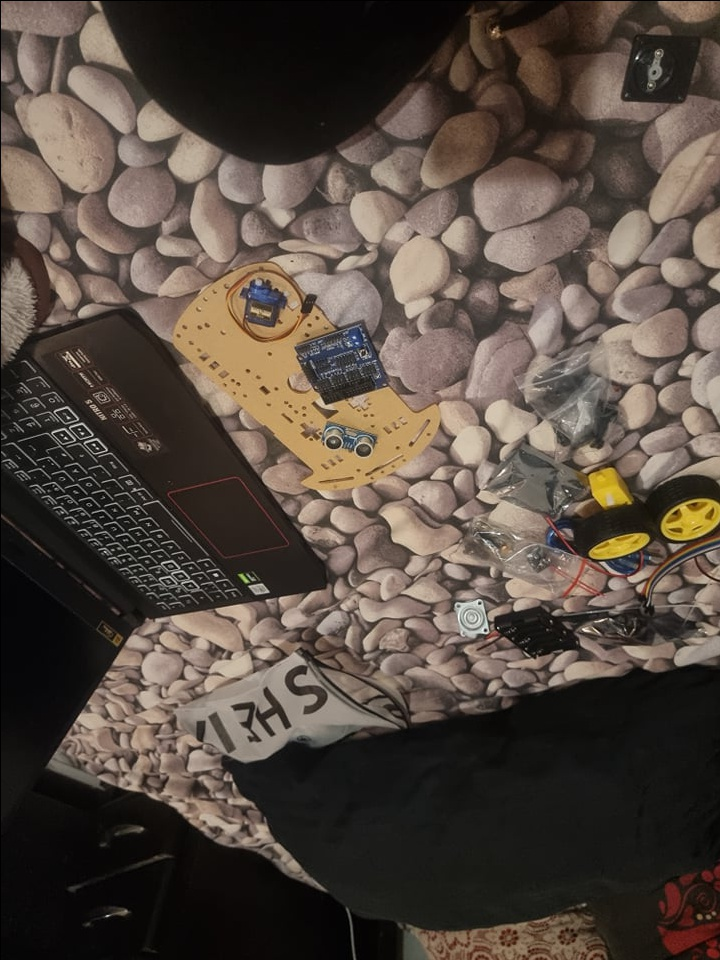5V EXPANSION: (293, 320, 390, 404)
BATTERY BOX: (493, 605, 574, 664)
SENSOR: (320, 423, 377, 459)
